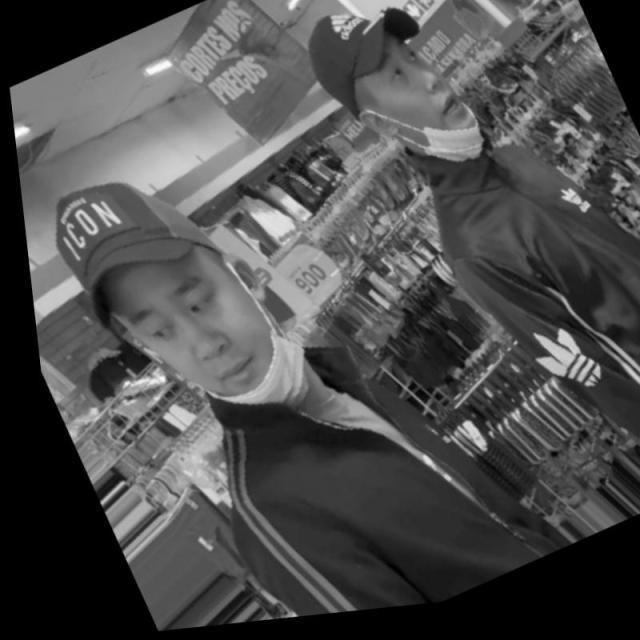hairnet: (112, 248, 314, 458), (359, 46, 492, 198)
